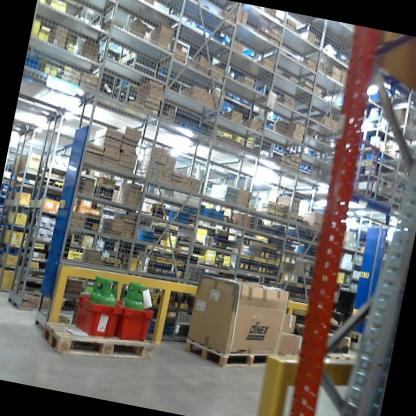pallet: (29, 306, 162, 385), (180, 332, 284, 381), (310, 336, 357, 369), (344, 329, 368, 349)
small_load_carrier: (69, 289, 126, 346), (110, 294, 163, 348)
